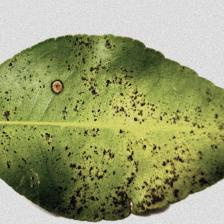canker: (41, 61, 186, 216)
